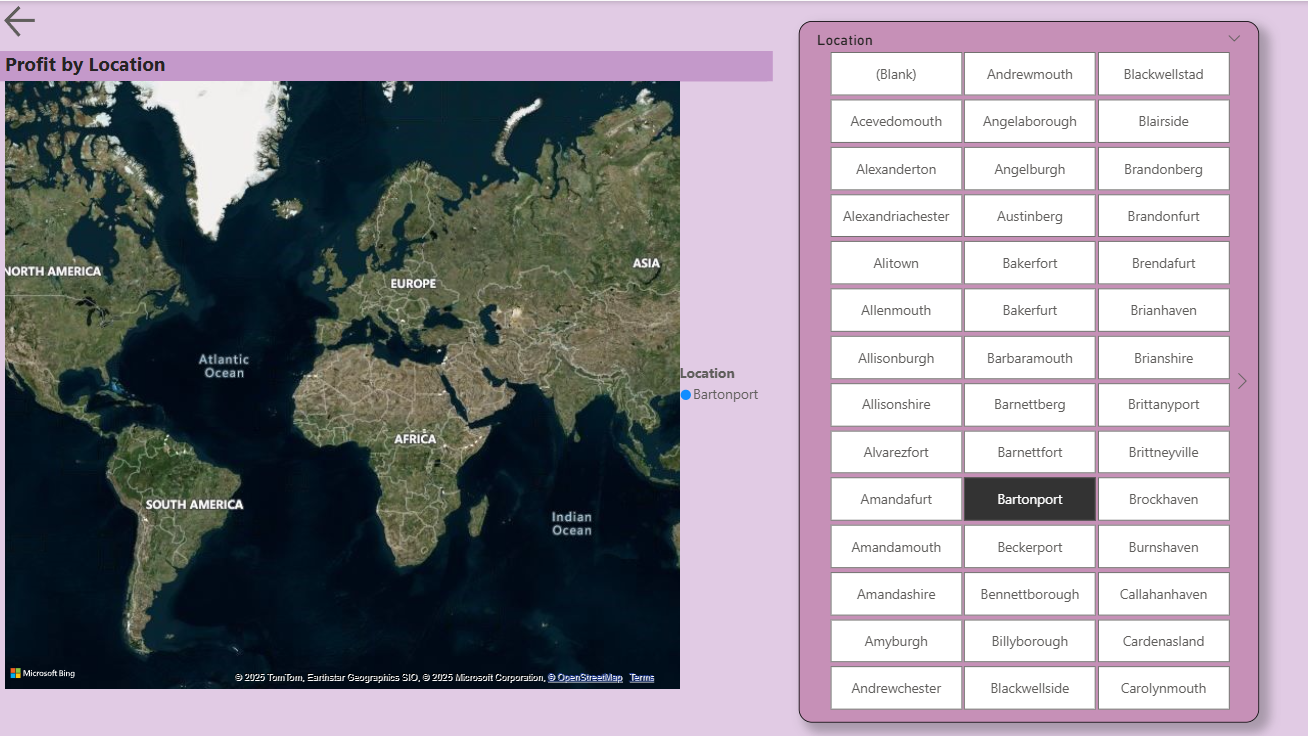

What the dashboard file says about the page in this screenshot:
{"tool":"powerbi","page":{"name":"Profit by Location","canvas":[1280,720],"ordinal":3},"visuals":[{"type":"map","title":"Profit by Location","fields":{"Series":["Customers.Location"],"Size":["measure.Total Profit"]},"box":[0,48.9,755.7,628.5],"z":0},{"type":"slicer","fields":{"Values":["Customers.Location"]},"box":[781.4,19.6,450,686],"z":1000},{"type":"actionButton","box":[0,0,100,40],"z":2000}]}

Visuals, with their boxes on the page's 1280x720 design canvas (x1, y1, x2, y2). These are canvas units, not pixel positions in the 1308x736 screenshot, which may show the page scaled, cropped or inside an application window:
"Profit by Location" map: x1=0 y1=49 x2=756 y2=677
slicer - Customers.Location: x1=781 y1=20 x2=1231 y2=706
actionButton: x1=0 y1=0 x2=100 y2=40
